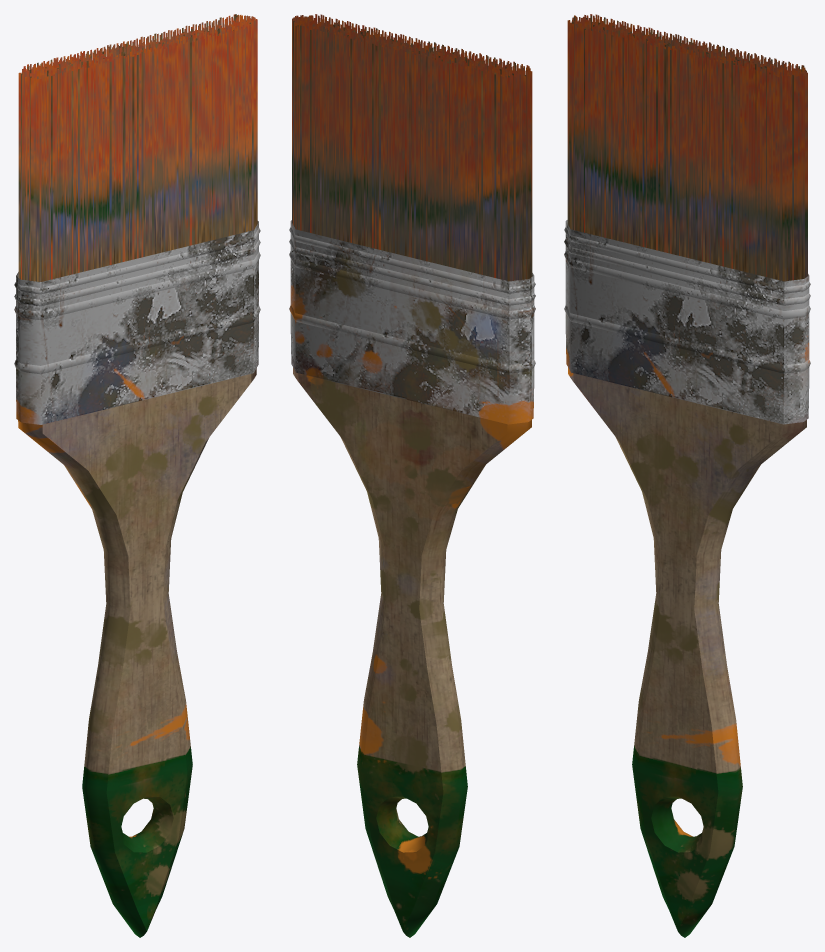
The model's file is Brush.obj.
3 views of the same model, side by side, from view 1: azimuth 30°, elevation 25°; view 2: azimuth 150°, elevation 25°; view 3: azimuth 330°, elevation 25° (orthographic).
Visible parts, largest first — view 1: brush.001, brush.002; view 2: brush.001, brush.002; view 3: brush.001, brush.002.
Boxes of the visible parts, x1,y1,x2,y2 form: brush.001: (14, 221, 260, 937); brush.002: (18, 14, 257, 281); brush.001: (289, 220, 535, 937); brush.002: (292, 14, 532, 281); brush.001: (564, 220, 810, 937); brush.002: (567, 14, 807, 281).
Size of what is drawn, in the model's own units: 0.1647 by 0.5827 by 0.0252.
